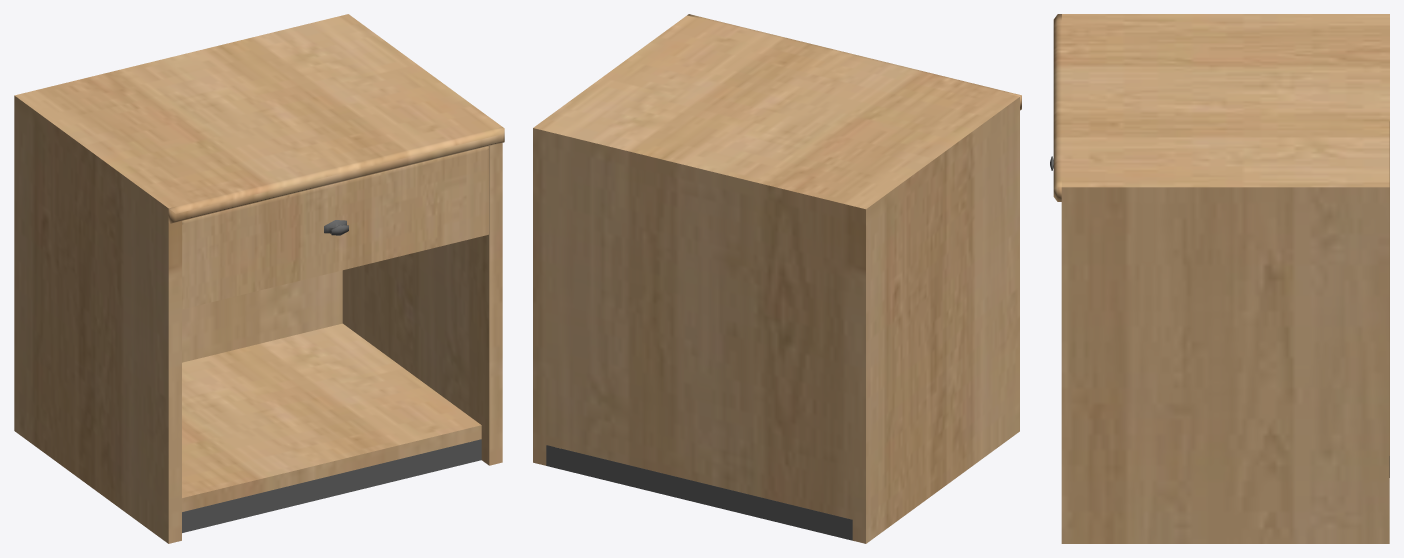
File: fit-nightstand.glb
3 views of the same model, side by side, from view 1: azimuth 30°, elevation 25°; view 2: azimuth 150°, elevation 25°; view 3: azimuth 270°, elevation 25° (orthographic). The views are drawn at different scales.
Bounding box in the file's own units: 50.01 × 48.01 × 41.45.
2 materials, 1 textured.
